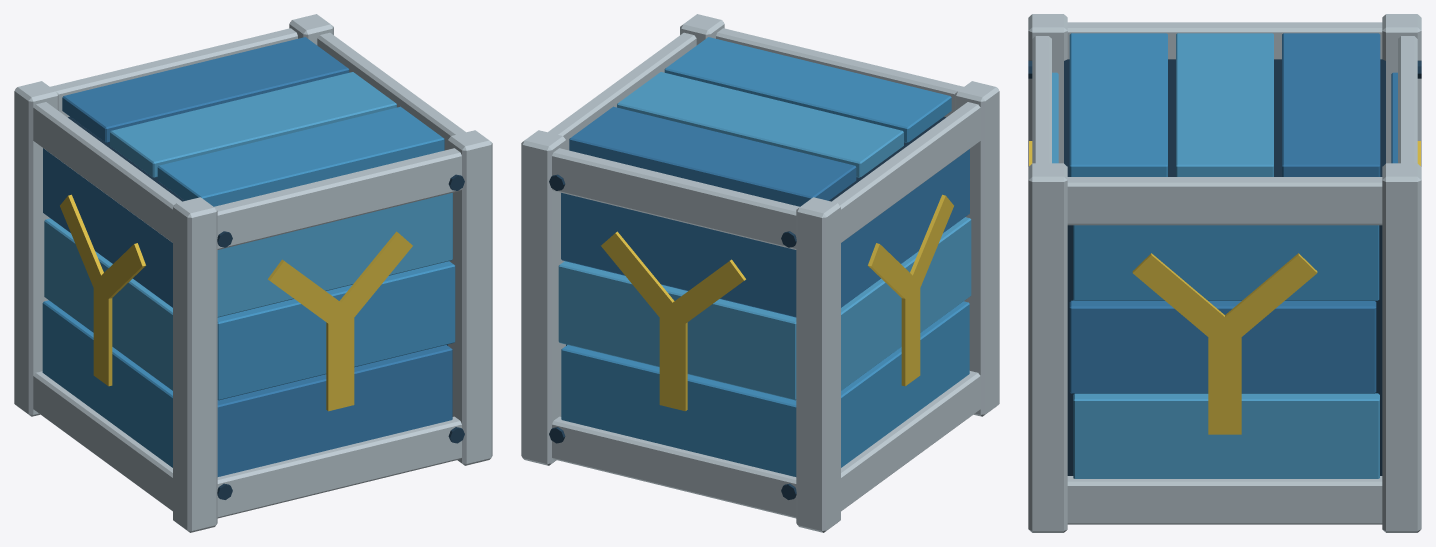
File: SM_crate_bounce.glb
The picture shows the model from 3 angles, left to right: view 1: azimuth 30°, elevation 25°; view 2: azimuth 150°, elevation 25°; view 3: azimuth 270°, elevation 25°; orthographic projection. The views are drawn at different scales.
Visible parts, largest first — view 1: SM_crate_bounce; view 2: SM_crate_bounce; view 3: SM_crate_bounce.
Boxes of the visible parts, x1,y1,x2,y2 form: SM_crate_bounce: (14, 14, 492, 532); SM_crate_bounce: (521, 14, 999, 532); SM_crate_bounce: (1028, 14, 1421, 532).
Size of the model in its own units: 1 by 1 by 1.
